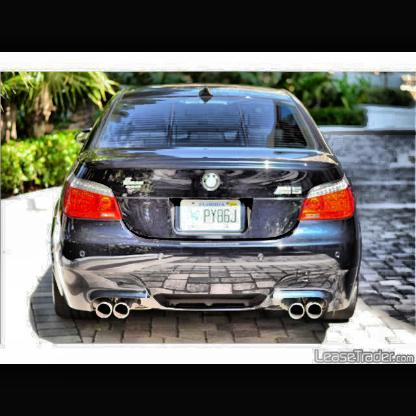BMW M5 Sedan 2010: (53, 85, 362, 326)
